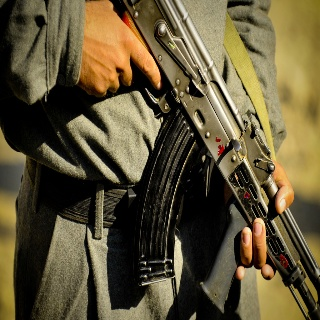rifle: (106, 1, 320, 320)
